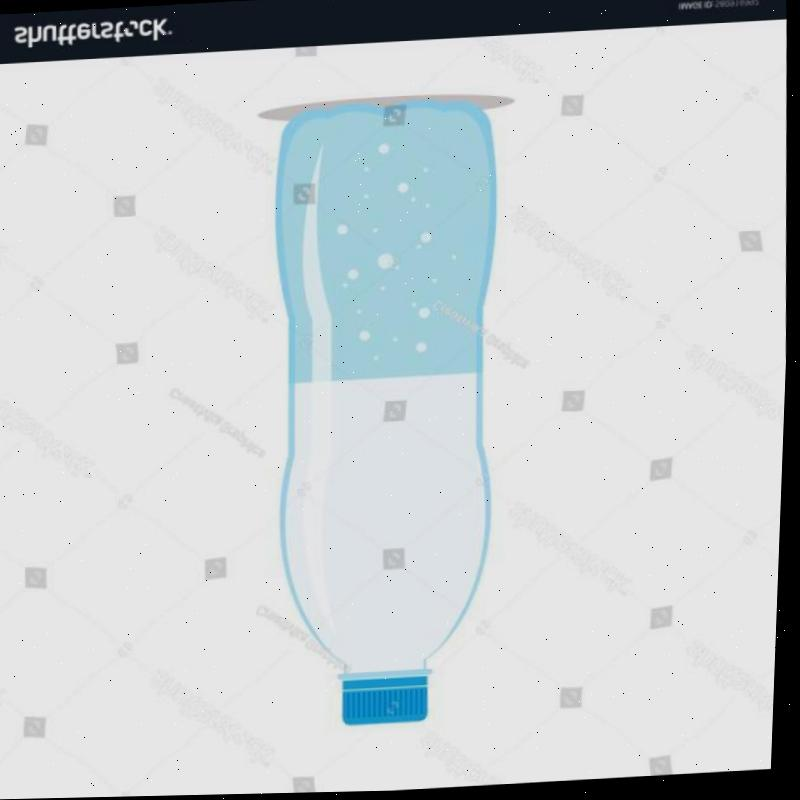botella: (256, 90, 522, 730)
